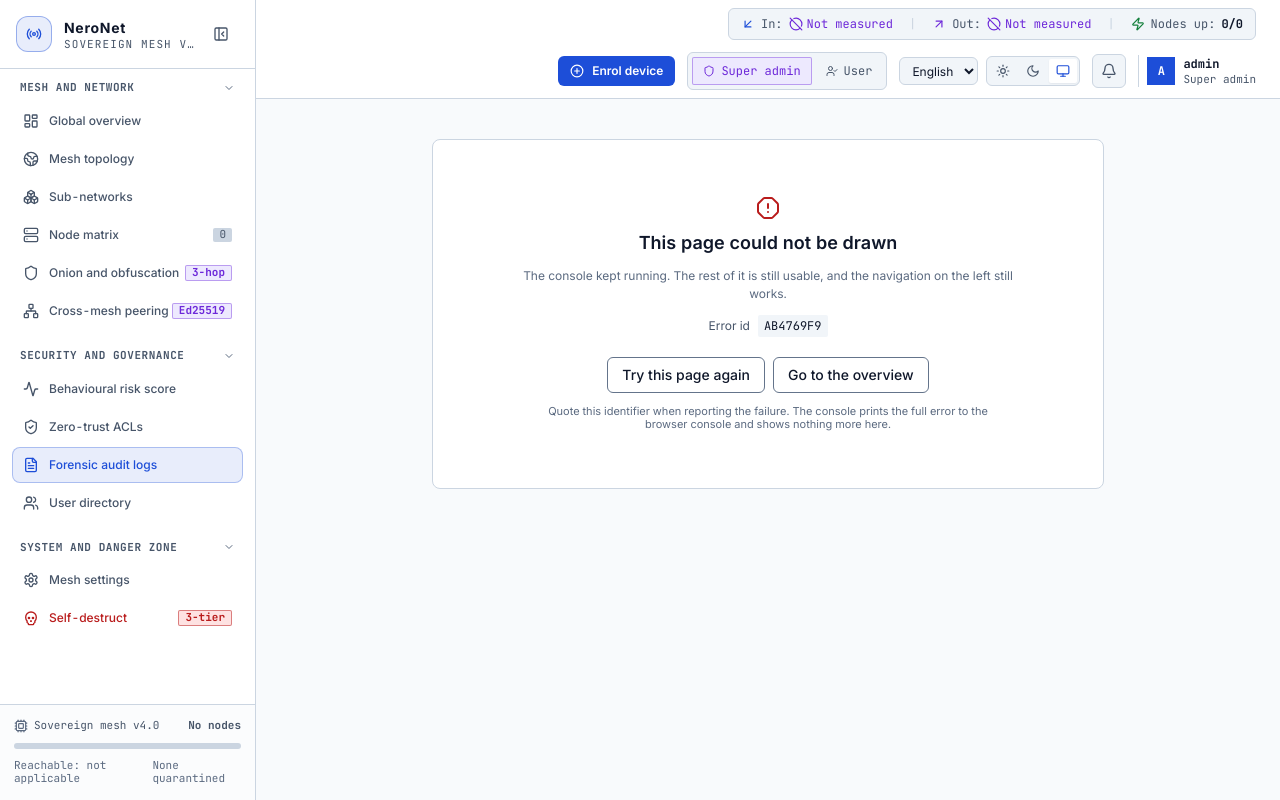
Test: the shell › contains a page that throws, leaving the navigation usable
Expected: the heading "This page could not be drawn" is shown, [639,232,897,254]
Expected: the text "AB4769F9" is shown, [758,314,828,336]
# The sidebar survived, and still navigates.
Click the link "Global overview". click: (82, 121)
box: [23,113,141,129]
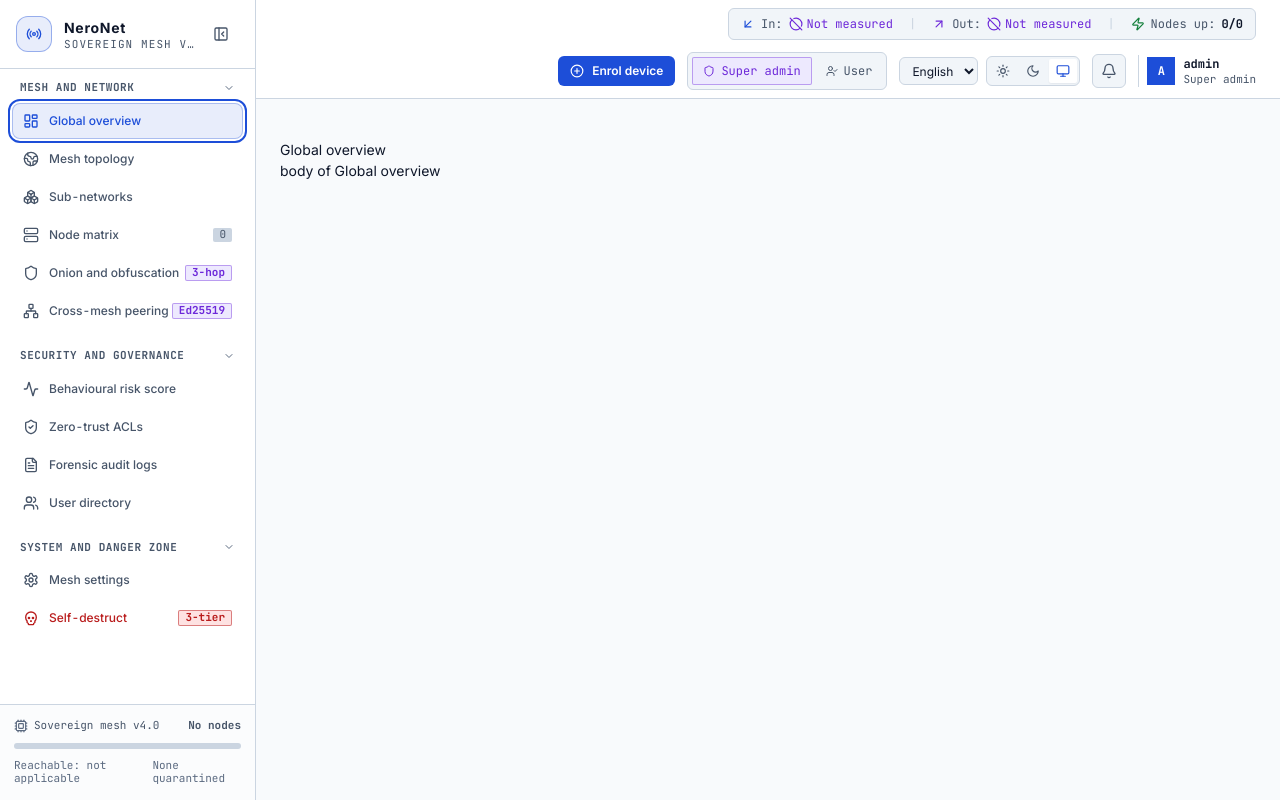
Now the heading "Global overview" is shown, box [280,141,386,158]
